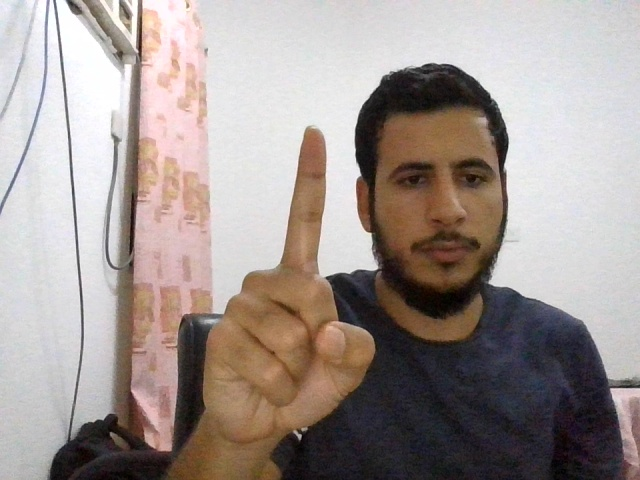One: (203, 126, 375, 436)
